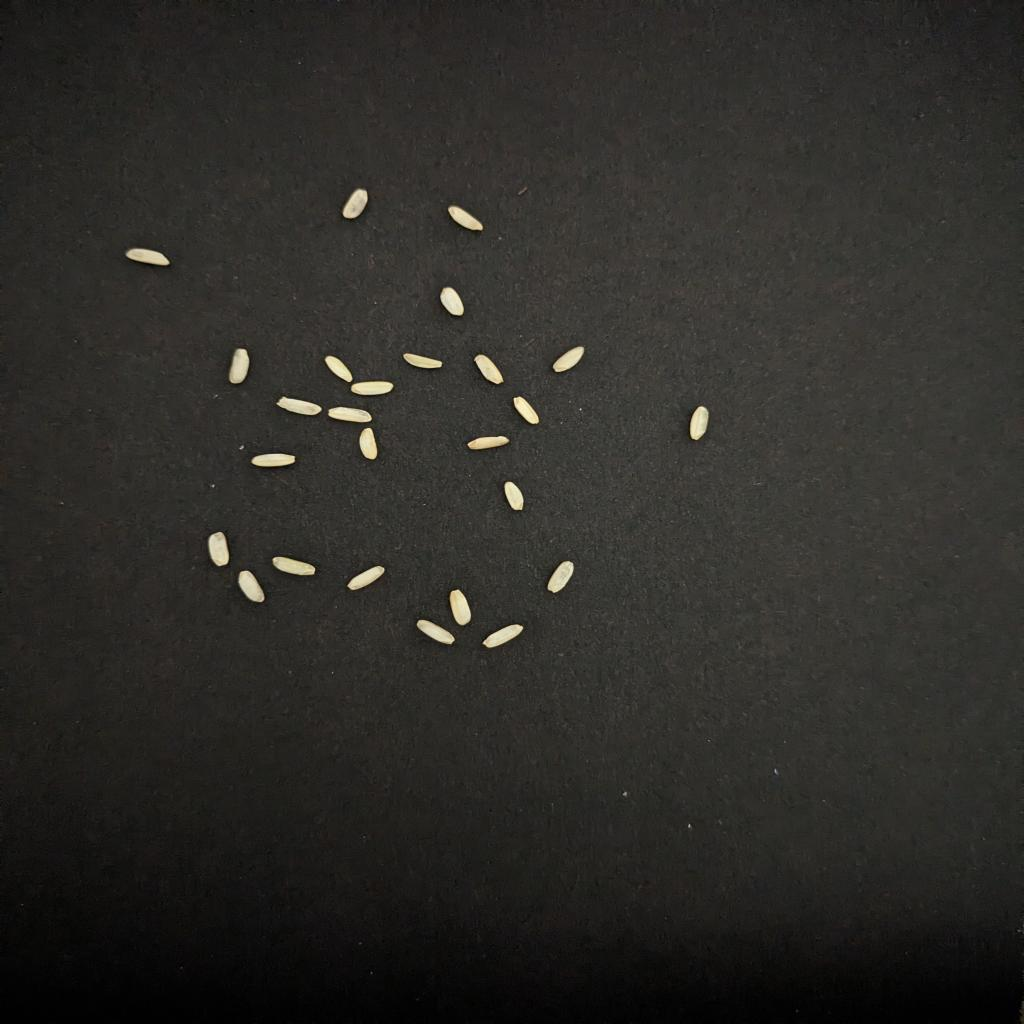chalky: (482, 624, 522, 648), (416, 620, 455, 644), (237, 570, 266, 602), (346, 566, 384, 590), (551, 346, 586, 372), (272, 556, 317, 576), (474, 354, 503, 384), (546, 562, 575, 592), (447, 206, 482, 230), (277, 398, 322, 416), (125, 248, 170, 266), (450, 590, 471, 626), (229, 348, 250, 384), (344, 188, 368, 218), (328, 406, 373, 422), (208, 532, 229, 566), (325, 356, 352, 382), (439, 288, 463, 316), (514, 396, 538, 424), (352, 380, 394, 396), (690, 406, 709, 440), (250, 454, 296, 468), (402, 354, 442, 370), (503, 482, 525, 510), (466, 436, 509, 450), (360, 428, 378, 460)
